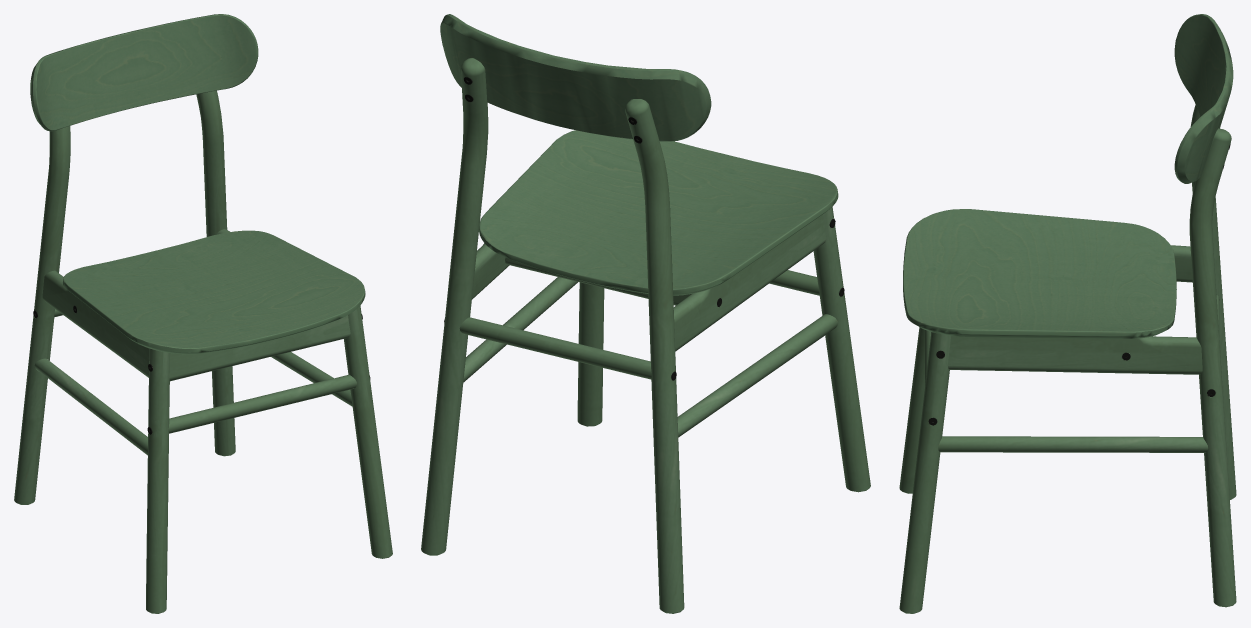
File: 41 - RÖNNINGE Chair - green.glb
3 views of the same model, side by side, from view 1: azimuth 30°, elevation 25°; view 2: azimuth 150°, elevation 25°; view 3: azimuth 270°, elevation 25° (orthographic). The views are drawn at different scales.
Visible parts, largest first — view 1: Mesh_0; view 2: Mesh_0; view 3: Mesh_0.
Part boxes in pixels (x1=…): Mesh_0: x1=14, y1=14, x2=392, y2=613; Mesh_0: x1=421, y1=14, x2=870, y2=613; Mesh_0: x1=899, y1=14, x2=1236, y2=613.
Size of the model in its own units: 0.4576 by 0.7993 by 0.5023.
Materials: 1 (1 with a texture image).
